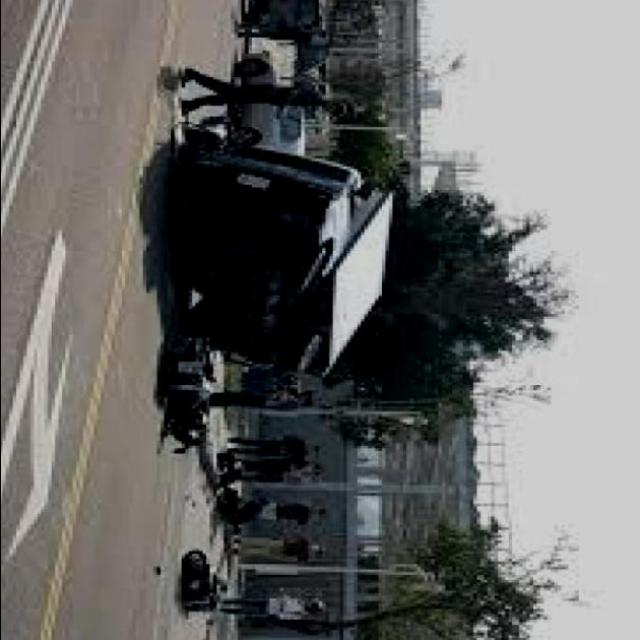accident: (150, 145, 403, 367), (139, 333, 233, 463), (171, 545, 232, 630)
